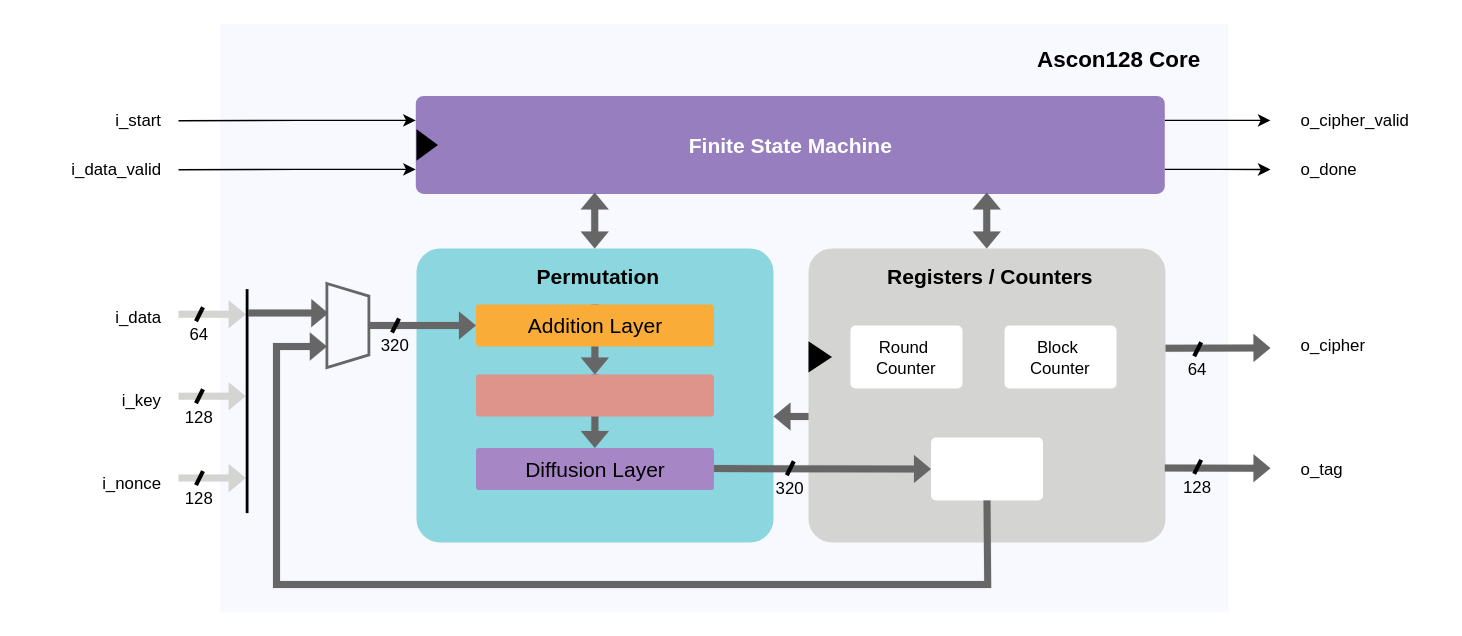
The diagram is 1462 pixels wide and 636 high, and some of its shapes have lost their labels. The centre of each missing label's shape, as x and y in pixels:
State Register: (x=986, y=468)
Substitution Layer: (x=594, y=395)
